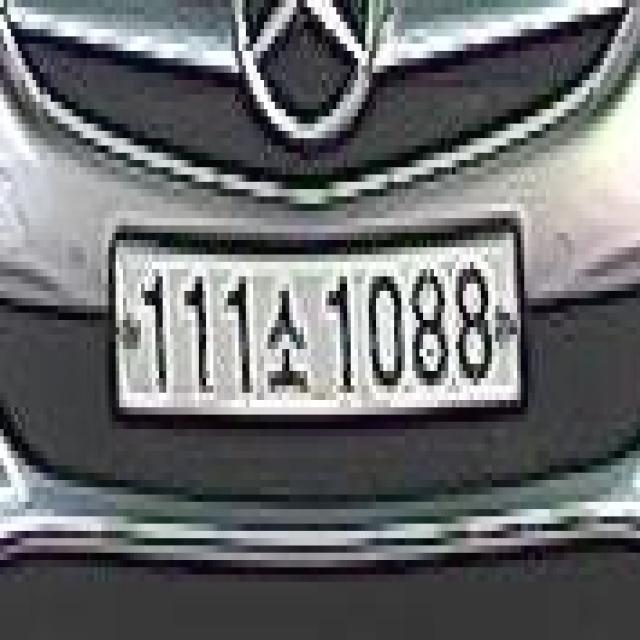illegal_plate: (104, 211, 531, 450)
